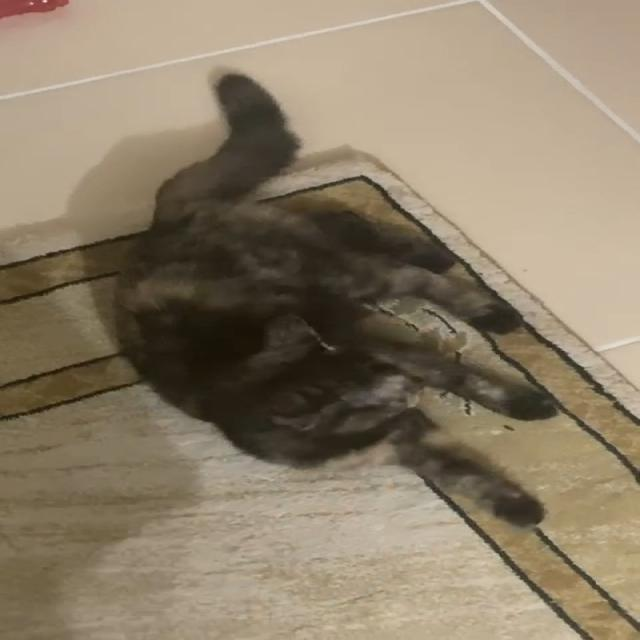authorized: (110, 68, 558, 528)
